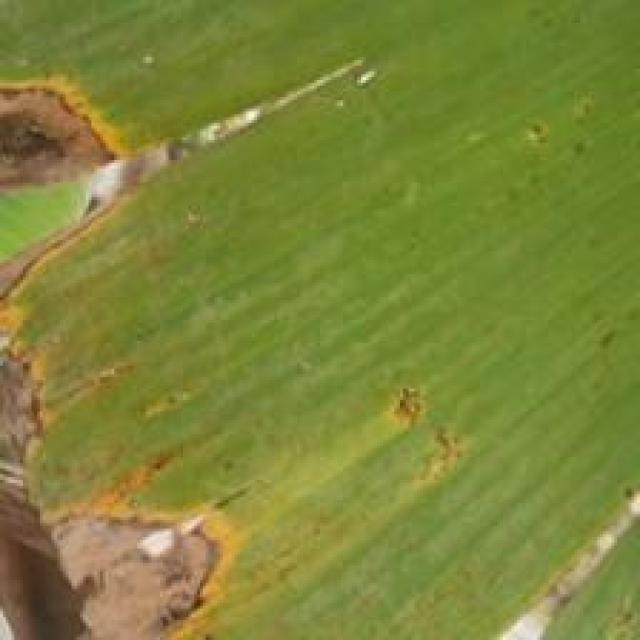Downey_mildrew: (0, 30, 468, 638), (486, 483, 637, 640), (513, 102, 603, 173)
